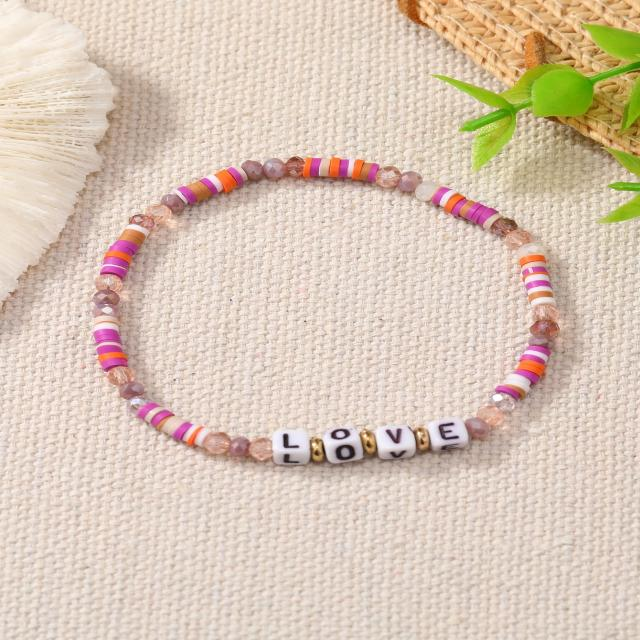bracelet: (53, 110, 640, 516)
